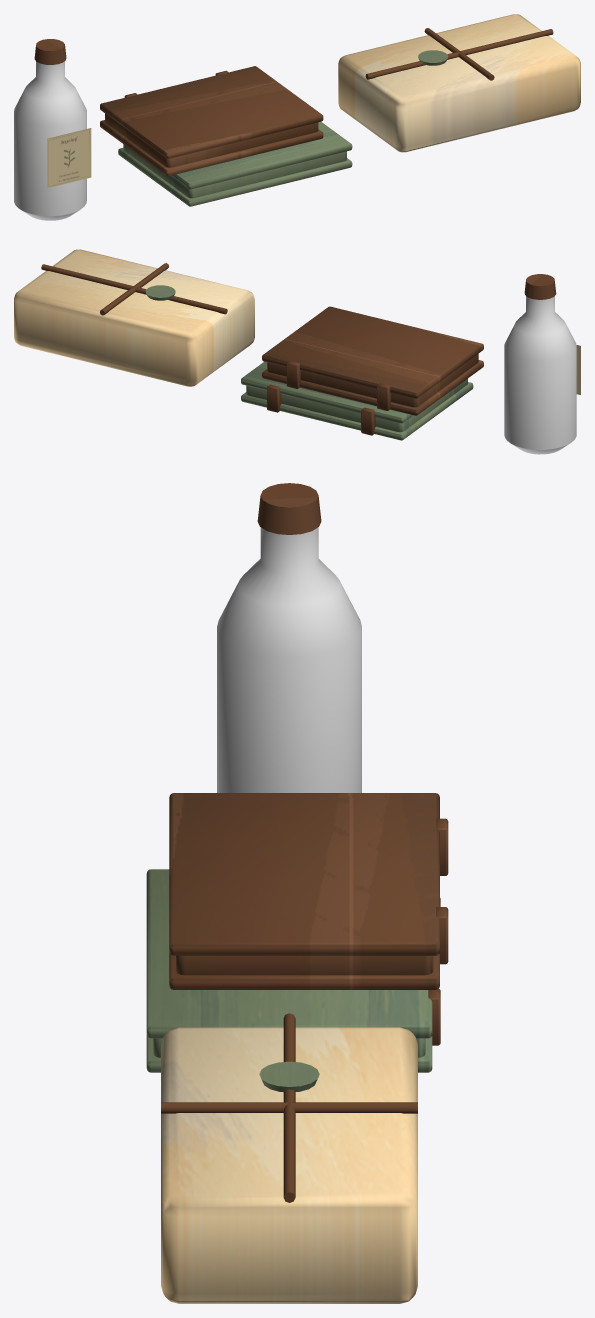
Rendered from CM_IL04_PreparationRecords.fbx.
The picture shows the model from 3 angles, top to bottom: view 1: azimuth 30°, elevation 25°; view 2: azimuth 150°, elevation 25°; view 3: azimuth 270°, elevation 25°; orthographic projection. The views are drawn at different scales.
Parts seen in each view (by area): view 1: CM_IL04_PreparationRecords; view 2: CM_IL04_PreparationRecords; view 3: CM_IL04_PreparationRecords.
Part boxes in pixels (left/top/right/bottom): CM_IL04_PreparationRecords: left=14, top=14, right=580, bottom=220; CM_IL04_PreparationRecords: left=14, top=249, right=580, bottom=454; CM_IL04_PreparationRecords: left=146, top=483, right=448, bottom=1303.
Bounding box in the file's own units: 0.808 × 0.24 × 0.1995.
